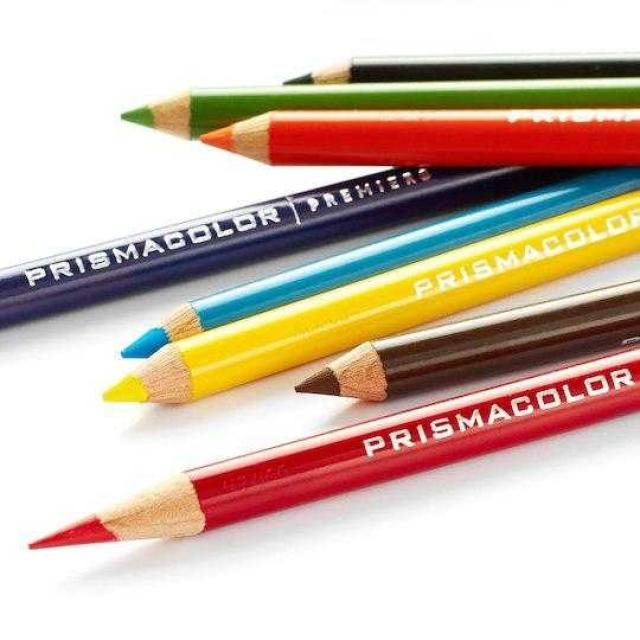pencil: (79, 178, 639, 422), (16, 354, 639, 569), (109, 159, 639, 374), (267, 271, 639, 413), (103, 63, 639, 151), (181, 96, 639, 180)
